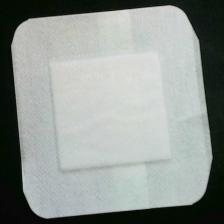Dressing: (11, 4, 216, 222)
